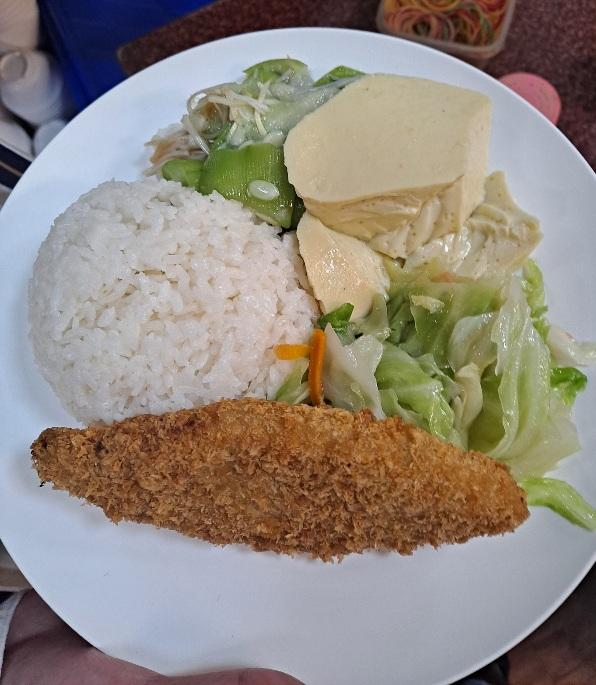big fried chicken leg: (0, 14, 596, 685)
big herbal chicken leg: (26, 179, 311, 428)
braised fish fillet: (319, 282, 587, 520), (279, 76, 508, 309), (147, 48, 377, 227)
braised pork: (19, 397, 551, 565)
